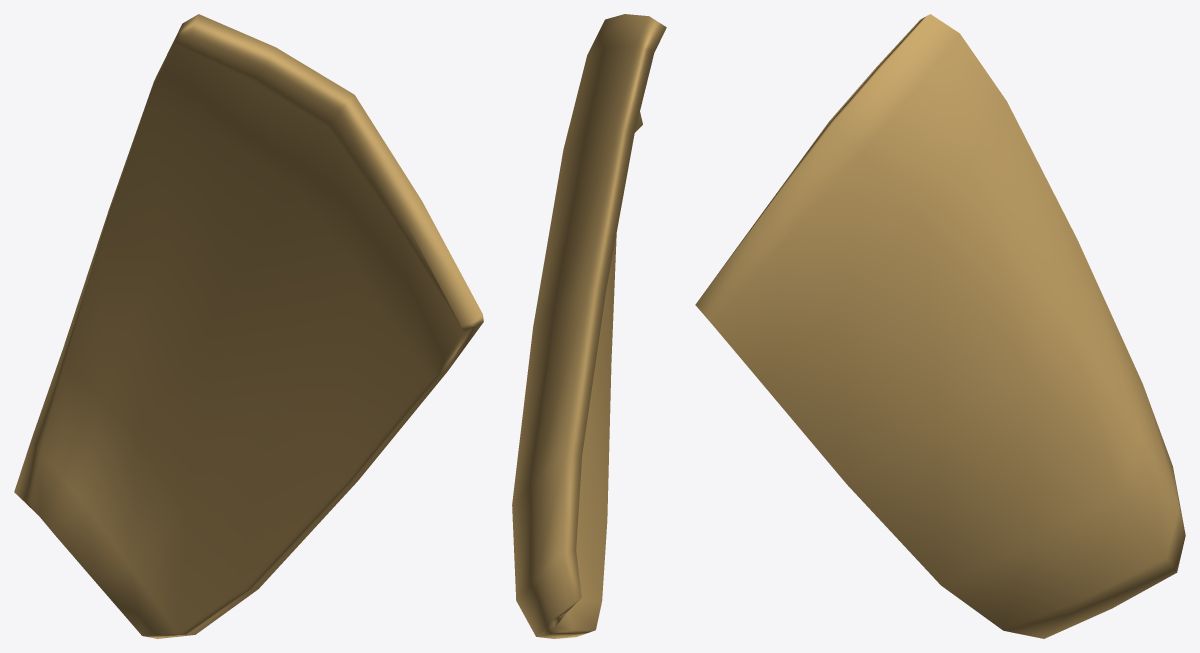
The picture shows the model from 3 angles, left to right: view 1: azimuth 30°, elevation 25°; view 2: azimuth 150°, elevation 25°; view 3: azimuth 270°, elevation 25°; orthographic projection. The views are drawn at different scales.
Visible parts, largest first — view 1: 右侧距跟内侧韧带; view 2: 右侧距跟内侧韧带; view 3: 右侧距跟内侧韧带.
Boxes of the visible parts, box(x1,y1,x2,y2) form: 右侧距跟内侧韧带: box(14, 14, 483, 638); 右侧距跟内侧韧带: box(512, 14, 666, 638); 右侧距跟内侧韧带: box(695, 14, 1185, 638).
Size of the model in its own units: 0.00723 by 0.0218 by 0.0157.
